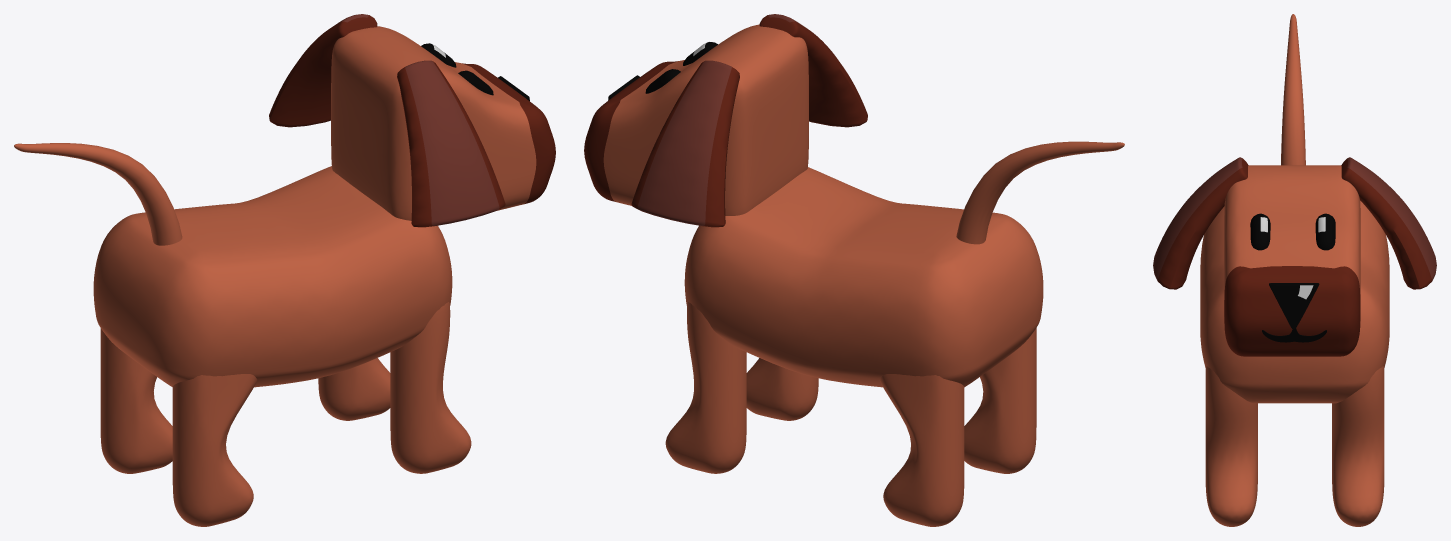
The model's file is PERRO.fbx.
The picture shows the model from 3 angles, left to right: view 1: azimuth 30°, elevation 25°; view 2: azimuth 150°, elevation 25°; view 3: azimuth 270°, elevation 25°; orthographic projection. The views are drawn at different scales.
Parts seen in each view (by area): view 1: Subdivision_Surface_3, Cube_4, patas_delanteras, Cube_3, patas_delanteras_2, Capsule_2, Capsule; view 2: Subdivision_Surface_3, Cube_4, patas_delanteras, Cube_3, patas_delanteras_2, Capsule_2, Capsule; view 3: Cube_4, Subdivision_Surface_3, patas_delanteras_2, Cube_3, Capsule_2, Capsule, Cube, Extrude.
Boxes of the visible parts, x1=… form: Subdivision_Surface_3: x1=93, y1=166, x2=452, y2=387; Cube_4: x1=331, y1=26, x2=555, y2=220; patas_delanteras: x1=100, y1=328, x2=257, y2=526; Cube_3: x1=269, y1=14, x2=505, y2=227; patas_delanteras_2: x1=318, y1=302, x2=471, y2=473; Capsule_2: x1=14, y1=143, x2=182, y2=245; Capsule: x1=421, y1=43, x2=493, y2=95; Subdivision_Surface_3: x1=684, y1=167, x2=1043, y2=387; Cube_4: x1=584, y1=24, x2=808, y2=215; patas_delanteras: x1=879, y1=328, x2=1036, y2=526; Cube_3: x1=631, y1=14, x2=867, y2=227; patas_delanteras_2: x1=665, y1=302, x2=818, y2=473; Capsule_2: x1=956, y1=141, x2=1124, y2=244; Capsule: x1=645, y1=42, x2=717, y2=93; Cube_4: x1=1224, y1=165, x2=1360, y2=356; Subdivision_Surface_3: x1=1200, y1=201, x2=1389, y2=403; patas_delanteras_2: x1=1205, y1=366, x2=1384, y2=526; Cube_3: x1=1153, y1=157, x2=1436, y2=289; Capsule_2: x1=1281, y1=14, x2=1305, y2=165; Capsule: x1=1250, y1=213, x2=1335, y2=250; Cube: x1=1269, y1=283, x2=1319, y2=329; Extrude: x1=1262, y1=328, x2=1326, y2=342.
Bounding box in the file's own units: 297 × 223 × 161.
